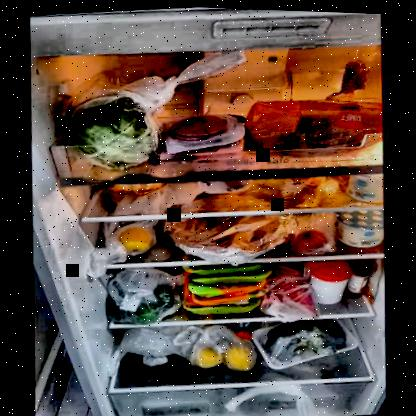broccoli: (266, 314, 354, 360)
chicken: (185, 259, 270, 316)
lemon: (120, 222, 161, 252), (227, 342, 262, 370), (197, 343, 230, 368)
lettuce: (70, 97, 163, 164)
salami: (172, 111, 233, 139)
tomato: (295, 226, 335, 252)
yoghurt: (338, 205, 390, 247)
